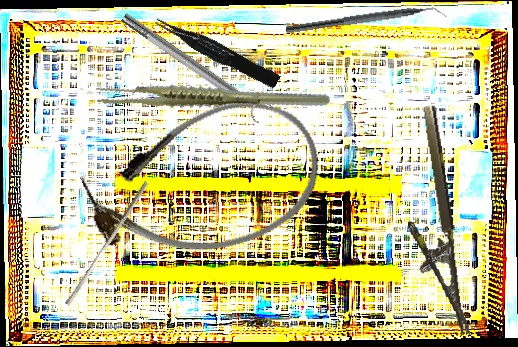Cannula: (72, 84, 336, 281)
Chopper: (285, 0, 448, 45)
Fixation Ring: (116, 4, 273, 126)
Needle Holder: (392, 104, 470, 341)
Pusher: (64, 178, 150, 309)
Tissue Forceps: (93, 45, 332, 151), (153, 8, 281, 94)
